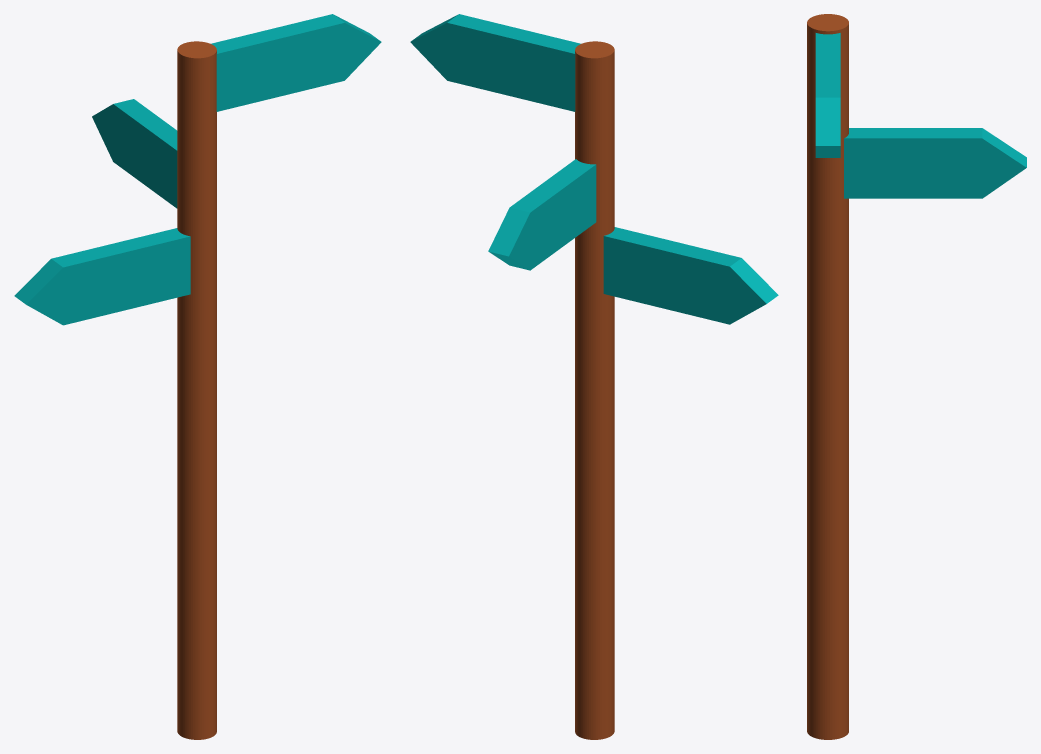
Rendered from sign.fbx.
3 views of the same model, side by side, from view 1: azimuth 30°, elevation 25°; view 2: azimuth 150°, elevation 25°; view 3: azimuth 270°, elevation 25° (orthographic). The views are drawn at different scales.
Visible parts, largest first — view 1: Cube; view 2: Cube; view 3: Cube.
Boxes of the visible parts, x1=… form: Cube: x1=14, y1=14, x2=381, y2=739; Cube: x1=410, y1=14, x2=778, y2=739; Cube: x1=807, y1=14, x2=1026, y2=739.
Size of the model in its own units: 514 by 940 by 264.
